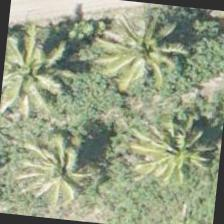Kelapa_Sawit: (91, 4, 190, 103), (14, 124, 113, 222), (130, 106, 224, 205), (0, 21, 77, 119)
